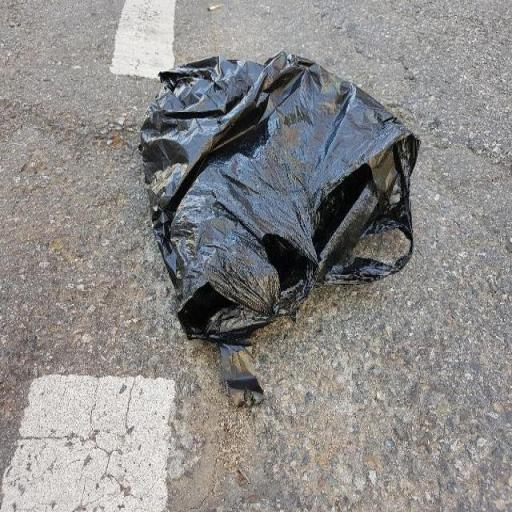plastic-bag: (138, 48, 422, 410)
